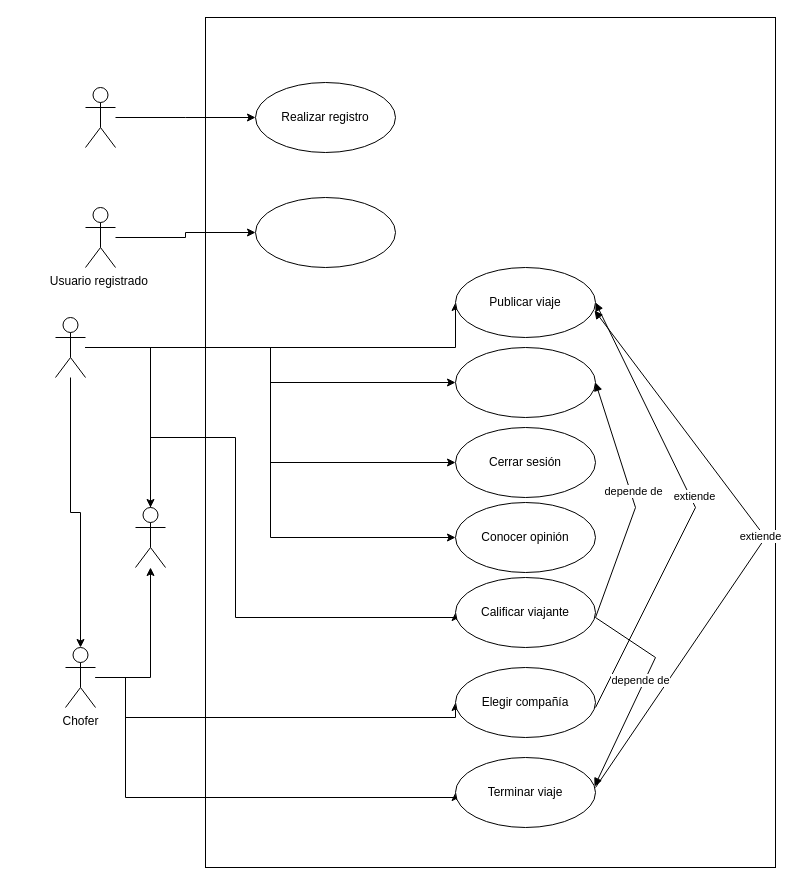
Image size: 799x885. Some labels were removed from this diagram. Each missing label, with the centre of its shape:
Postularse como compañia: (525,382)
Realizar autenticación: (325,232)
Usuario autenticado: (70,347)
Usuario no registrado: (100,117)
Viajante: (150,537)
